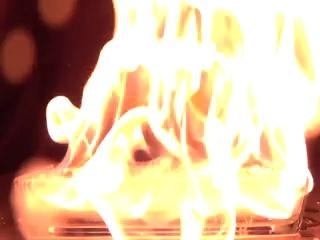Fire: (34, 1, 317, 218)
